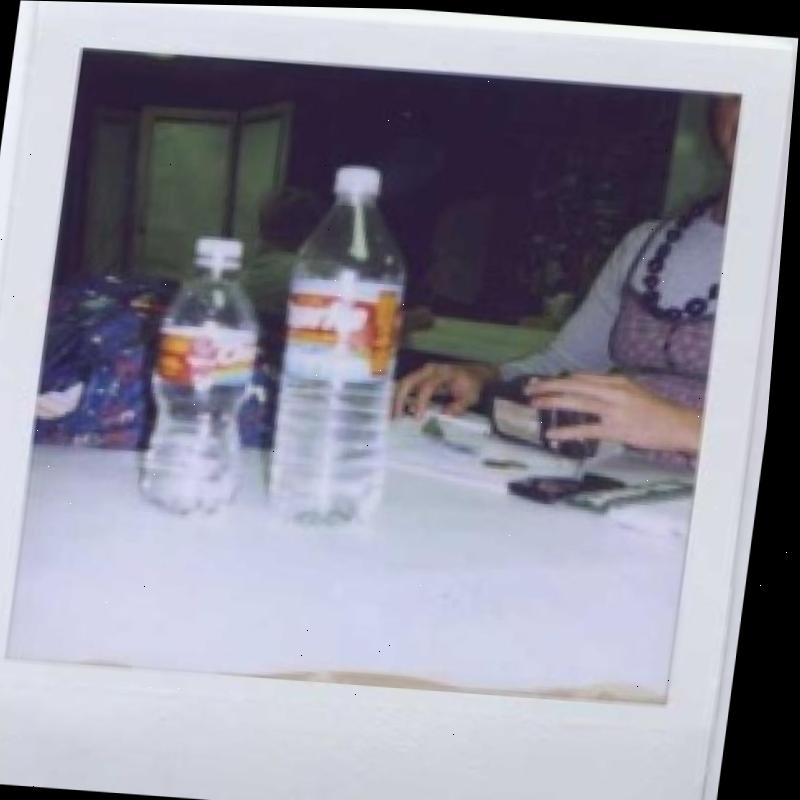botella: (264, 162, 436, 536), (142, 227, 276, 519)
